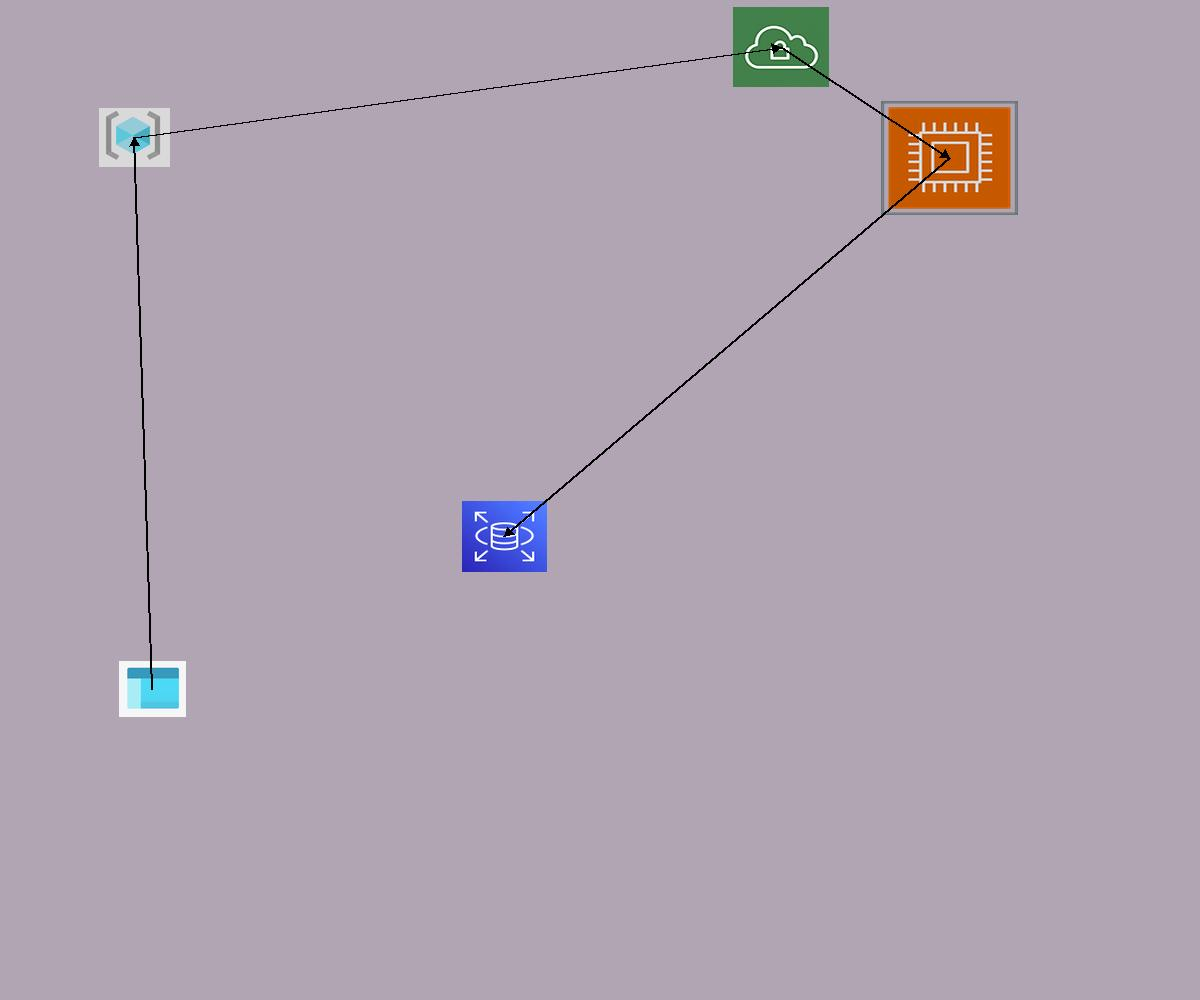AWS-Category_Compute: (881, 101, 1018, 215)
AWS-Private_vpc: (733, 7, 829, 87)
AWS-RDS: (462, 501, 547, 572)
Azure_management-portal: (119, 661, 186, 717)
Azure_resource_group: (99, 108, 170, 167)
